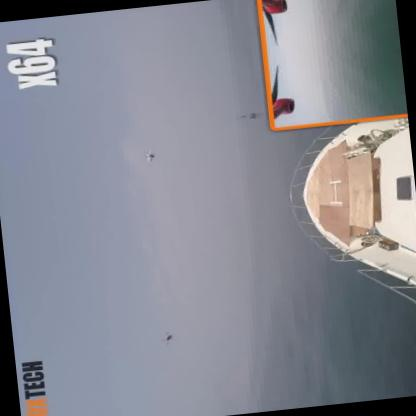drone: (139, 144, 164, 164), (156, 328, 176, 346)
